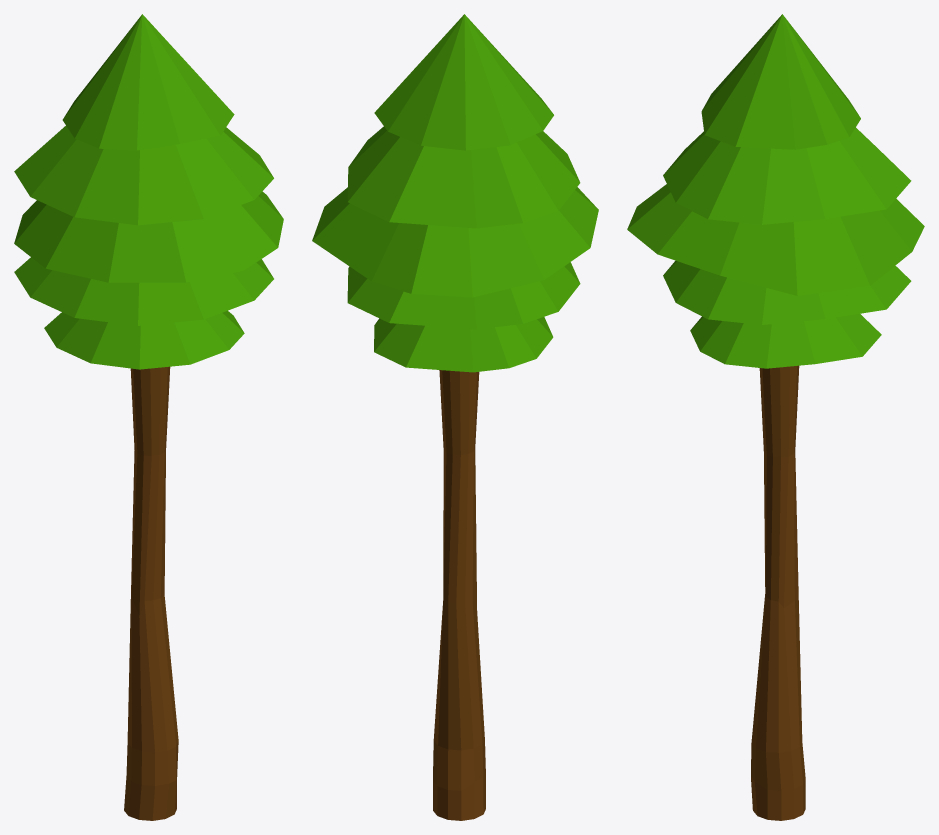
The model's file is Pine_1.fbx.
3 views of the same model, side by side, from view 1: azimuth 30°, elevation 25°; view 2: azimuth 150°, elevation 25°; view 3: azimuth 270°, elevation 25° (orthographic).
Parts seen in each view (by area): view 1: Leafs, Trunk; view 2: Leafs, Trunk; view 3: Leafs, Trunk.
Boxes of the visible parts, left/top/right/bottom form: Leafs: left=14, top=14, right=283, bottom=369; Trunk: left=124, top=366, right=178, bottom=820; Leafs: left=312, top=14, right=598, bottom=372; Trunk: left=433, top=370, right=485, bottom=820; Leafs: left=627, top=14, right=924, bottom=368; Trunk: left=751, top=365, right=805, bottom=820.
Size of the model in its own units: 8.29 by 25.91 by 8.82.
